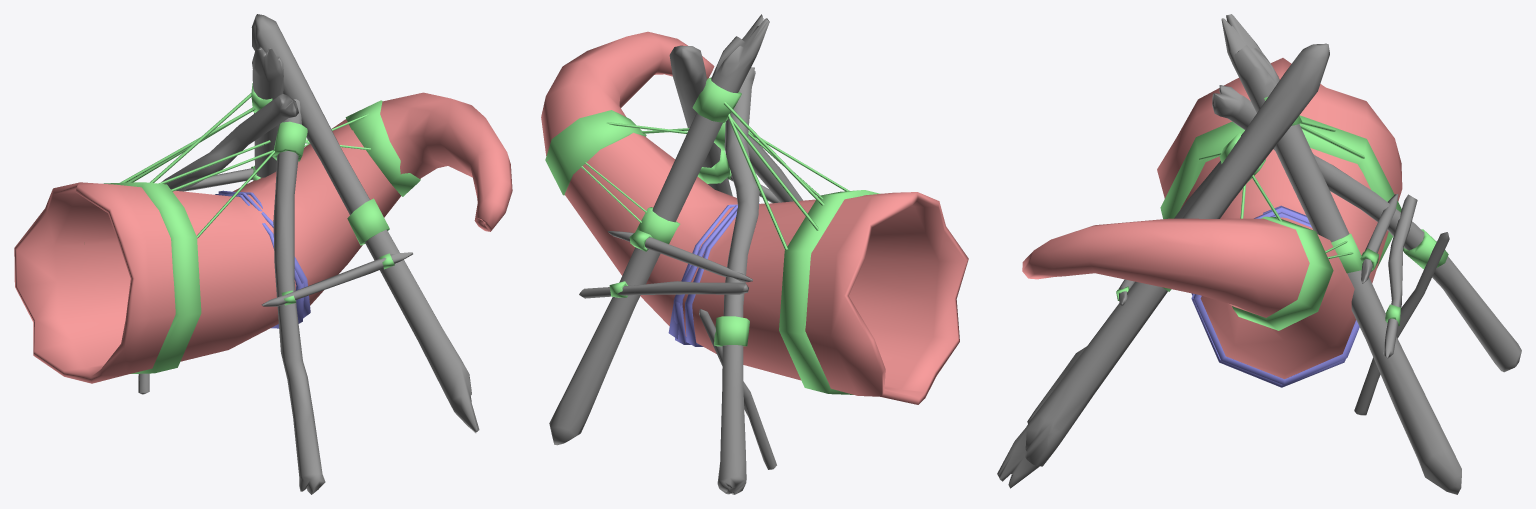
The model's file is horn_generic_arena_A.gltf.
3 views of the same model, side by side, from view 1: azimuth 30°, elevation 25°; view 2: azimuth 150°, elevation 25°; view 3: azimuth 270°, elevation 25° (orthographic). The views are drawn at different scales.
Parts seen in each view (by area): view 1: horn_generic_arena_A; view 2: horn_generic_arena_A; view 3: horn_generic_arena_A.
Boxes of the visible parts, x1,y1,x2,y2 form: horn_generic_arena_A: (14, 14, 512, 494); horn_generic_arena_A: (541, 14, 968, 494); horn_generic_arena_A: (997, 14, 1521, 494).
Size of the model in its own units: 3.19 by 2.93 by 3.14.
